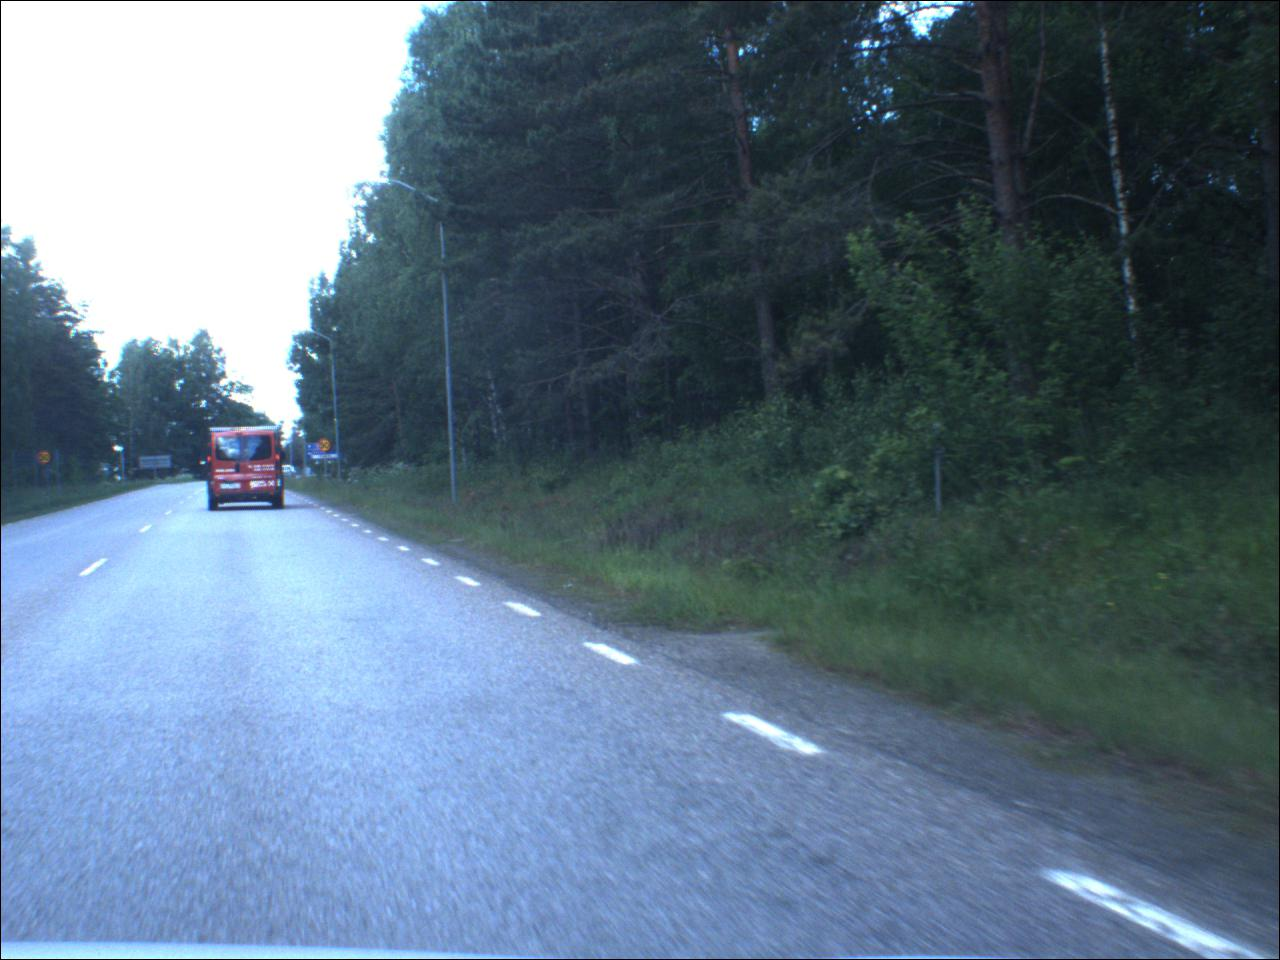50_SIGN: (39, 452, 55, 467), (321, 440, 335, 455)
